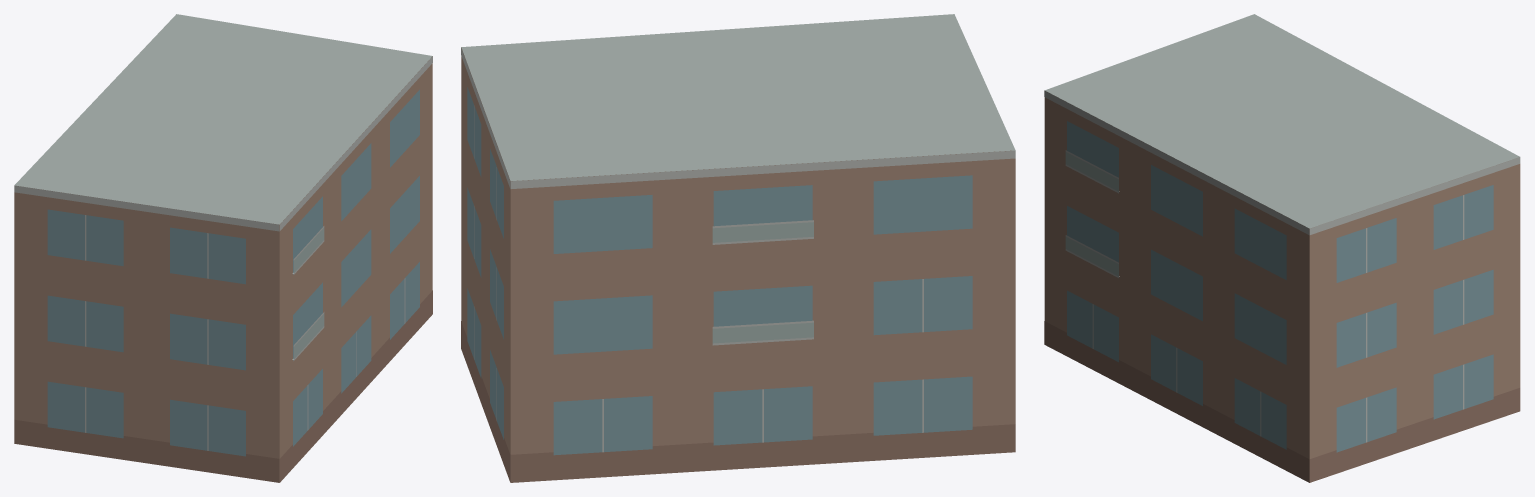
The model's file is survey-upis-32696419.glb.
3 views of the same model, side by side, from view 1: azimuth 30°, elevation 25°; view 2: azimuth 150°, elevation 25°; view 3: azimuth 270°, elevation 25° (orthographic). The views are drawn at different scales.
Visible parts, largest first — view 1: survey-upis-32696419.tmp; view 2: survey-upis-32696419.tmp; view 3: survey-upis-32696419.tmp.
Part boxes in pixels (left/top/right/bottom): survey-upis-32696419.tmp: left=14, top=14, right=432, bottom=482; survey-upis-32696419.tmp: left=461, top=14, right=1015, bottom=482; survey-upis-32696419.tmp: left=1044, top=14, right=1520, bottom=482.
Size of the model in its own units: 16.57 by 9.15 by 15.52.
